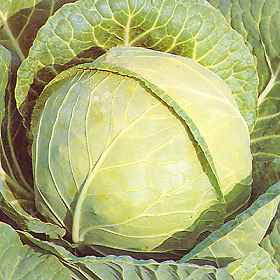cabbage: (28, 36, 255, 249)
